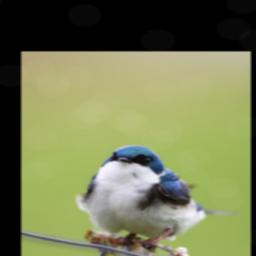Swallow: (74, 144, 242, 253)
